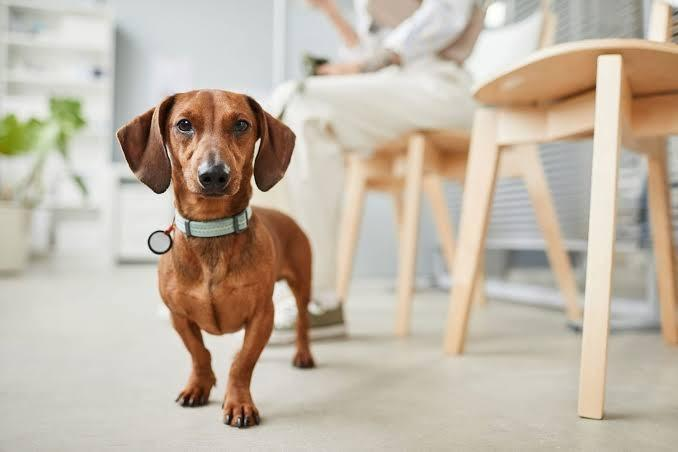adult_dog: (115, 88, 318, 429)
